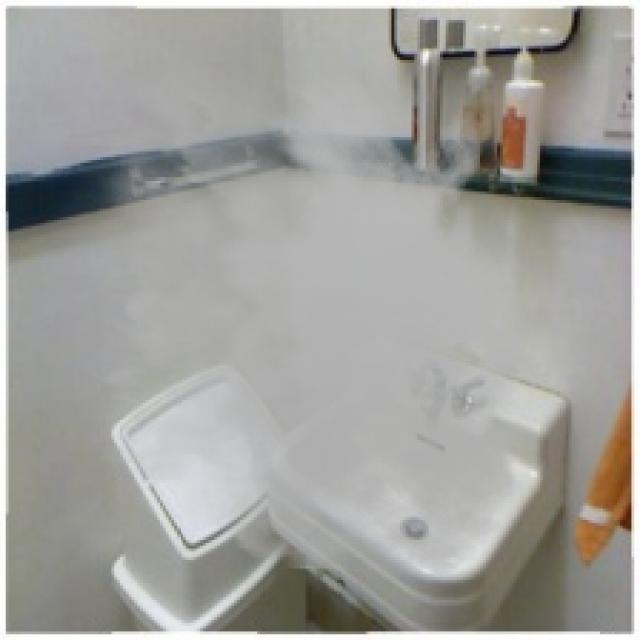Smoke: (40, 20, 569, 583)
